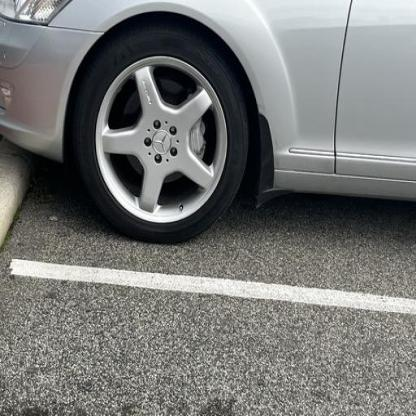Tire: (74, 25, 252, 247)
